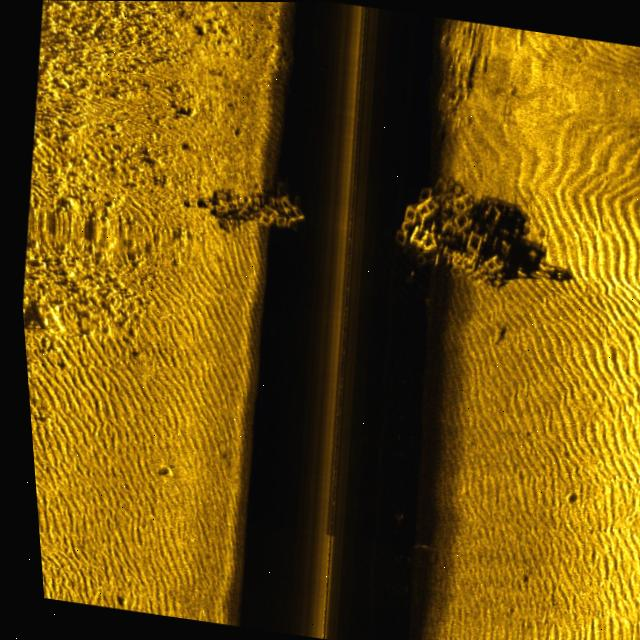artificial reef: (375, 158, 523, 322), (191, 171, 303, 252)
